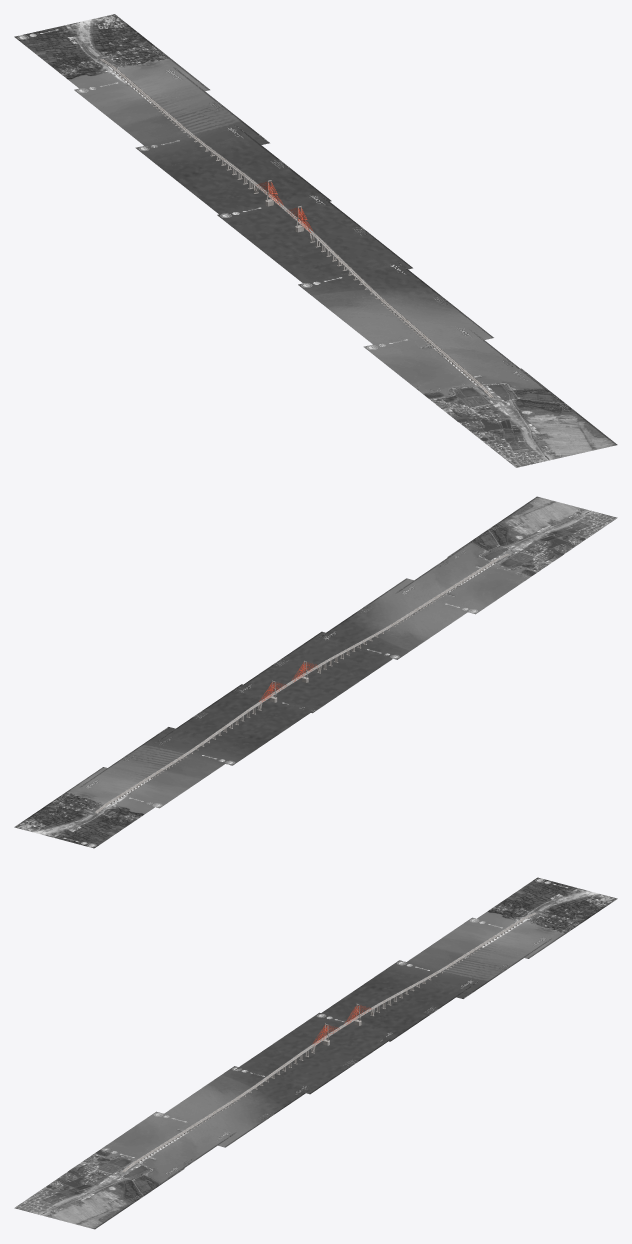
Rendered from surmadnew.glb.
The picture shows the model from 3 angles, top to bottom: view 1: azimuth 30°, elevation 25°; view 2: azimuth 150°, elevation 25°; view 3: azimuth 330°, elevation 25°; orthographic projection. The views are drawn at different scales.
Parts seen in each view (by area): view 1: G-Google Earth Terrain, G-Google Earth Terrain.003, G-Google Earth Terrain.005, G-Google Earth Terrain.004, G-Google Earth Terrain.002, G-Google Earth Terrain.006, G-Google Earth Terrain.001, G-Google Earth Snapshot.001, G-Google Earth Snapshot.004, G-Google Earth Snapshot.005, G-Google Earth Snapshot.003, G-Google Earth Snapshot (+3 smaller); view 2: G-Google Earth Terrain, G-Google Earth Snapshot.003, G-Google Earth Terrain.005, G-Google Earth Terrain.001, G-Google Earth Terrain.006, G-Google Earth Terrain.002, G-Google Earth Terrain.004, G-Google Earth Snapshot, G-Google Earth Snapshot.006, G-Google Earth Snapshot.004, G-Google Earth Terrain.003, G-Google Earth Snapshot.002 (+3 smaller); view 3: G-Google Earth Terrain.003, G-Google Earth Terrain.005, G-Google Earth Terrain.004, G-Google Earth Terrain, G-Google Earth Terrain.006, G-Google Earth Snapshot.002, G-Google Earth Terrain.001, G-Google Earth Snapshot.006, G-Google Earth Snapshot.003, G-Google Earth Snapshot.005, G-Google Earth Terrain.002, G-Google Earth Snapshot.001 (+3 smaller).
Part boxes in pixels (bbox=[...]): G-Google Earth Terrain: bbox=[363, 326, 559, 422]; G-Google Earth Terrain.003: bbox=[135, 125, 331, 218]; G-Google Earth Terrain.005: bbox=[14, 14, 209, 112]; G-Google Earth Terrain.004: bbox=[74, 67, 269, 165]; G-Google Earth Terrain.002: bbox=[217, 193, 412, 283]; G-Google Earth Terrain.006: bbox=[431, 368, 617, 467]; G-Google Earth Terrain.001: bbox=[298, 262, 493, 355]; G-Google Earth Snapshot.001: bbox=[298, 262, 493, 343]; G-Google Earth Snapshot.004: bbox=[74, 67, 268, 165]; G-Google Earth Snapshot.005: bbox=[15, 14, 209, 111]; G-Google Earth Snapshot.003: bbox=[137, 125, 331, 212]; G-Google Earth Snapshot: bbox=[375, 335, 558, 421]; G-Google Earth Terrain: bbox=[396, 533, 564, 614]; G-Google Earth Snapshot.003: bbox=[155, 684, 321, 765]; G-Google Earth Terrain.005: bbox=[14, 767, 182, 848]; G-Google Earth Terrain.001: bbox=[317, 578, 485, 659]; G-Google Earth Terrain.006: bbox=[447, 496, 617, 575]; G-Google Earth Terrain.002: bbox=[233, 631, 394, 712]; G-Google Earth Terrain.004: bbox=[79, 727, 243, 807]; G-Google Earth Snapshot: bbox=[397, 533, 563, 613]; G-Google Earth Snapshot.006: bbox=[447, 497, 616, 575]; G-Google Earth Snapshot.004: bbox=[81, 727, 247, 808]; G-Google Earth Terrain.003: bbox=[163, 690, 320, 765]; G-Google Earth Snapshot.002: bbox=[233, 632, 392, 706]; G-Google Earth Terrain.003: bbox=[321, 960, 479, 1041]; G-Google Earth Terrain.005: bbox=[451, 877, 617, 958]; G-Google Earth Terrain.004: bbox=[398, 917, 551, 998]; G-Google Earth Terrain: bbox=[67, 1111, 236, 1192]; G-Google Earth Terrain.006: bbox=[14, 1147, 184, 1229]; G-Google Earth Snapshot.002: bbox=[243, 1013, 389, 1093]; G-Google Earth Terrain.001: bbox=[146, 1066, 309, 1147]; G-Google Earth Snapshot.006: bbox=[15, 1147, 182, 1228]; G-Google Earth Snapshot.003: bbox=[329, 961, 478, 1032]; G-Google Earth Snapshot.005: bbox=[453, 877, 615, 958]; G-Google Earth Terrain.002: bbox=[233, 1013, 396, 1093]; G-Google Earth Snapshot.001: bbox=[152, 1066, 306, 1146].
Bounding box in the file's own units: 1225 × 191 × 7360.
10 materials, 10 textured.
